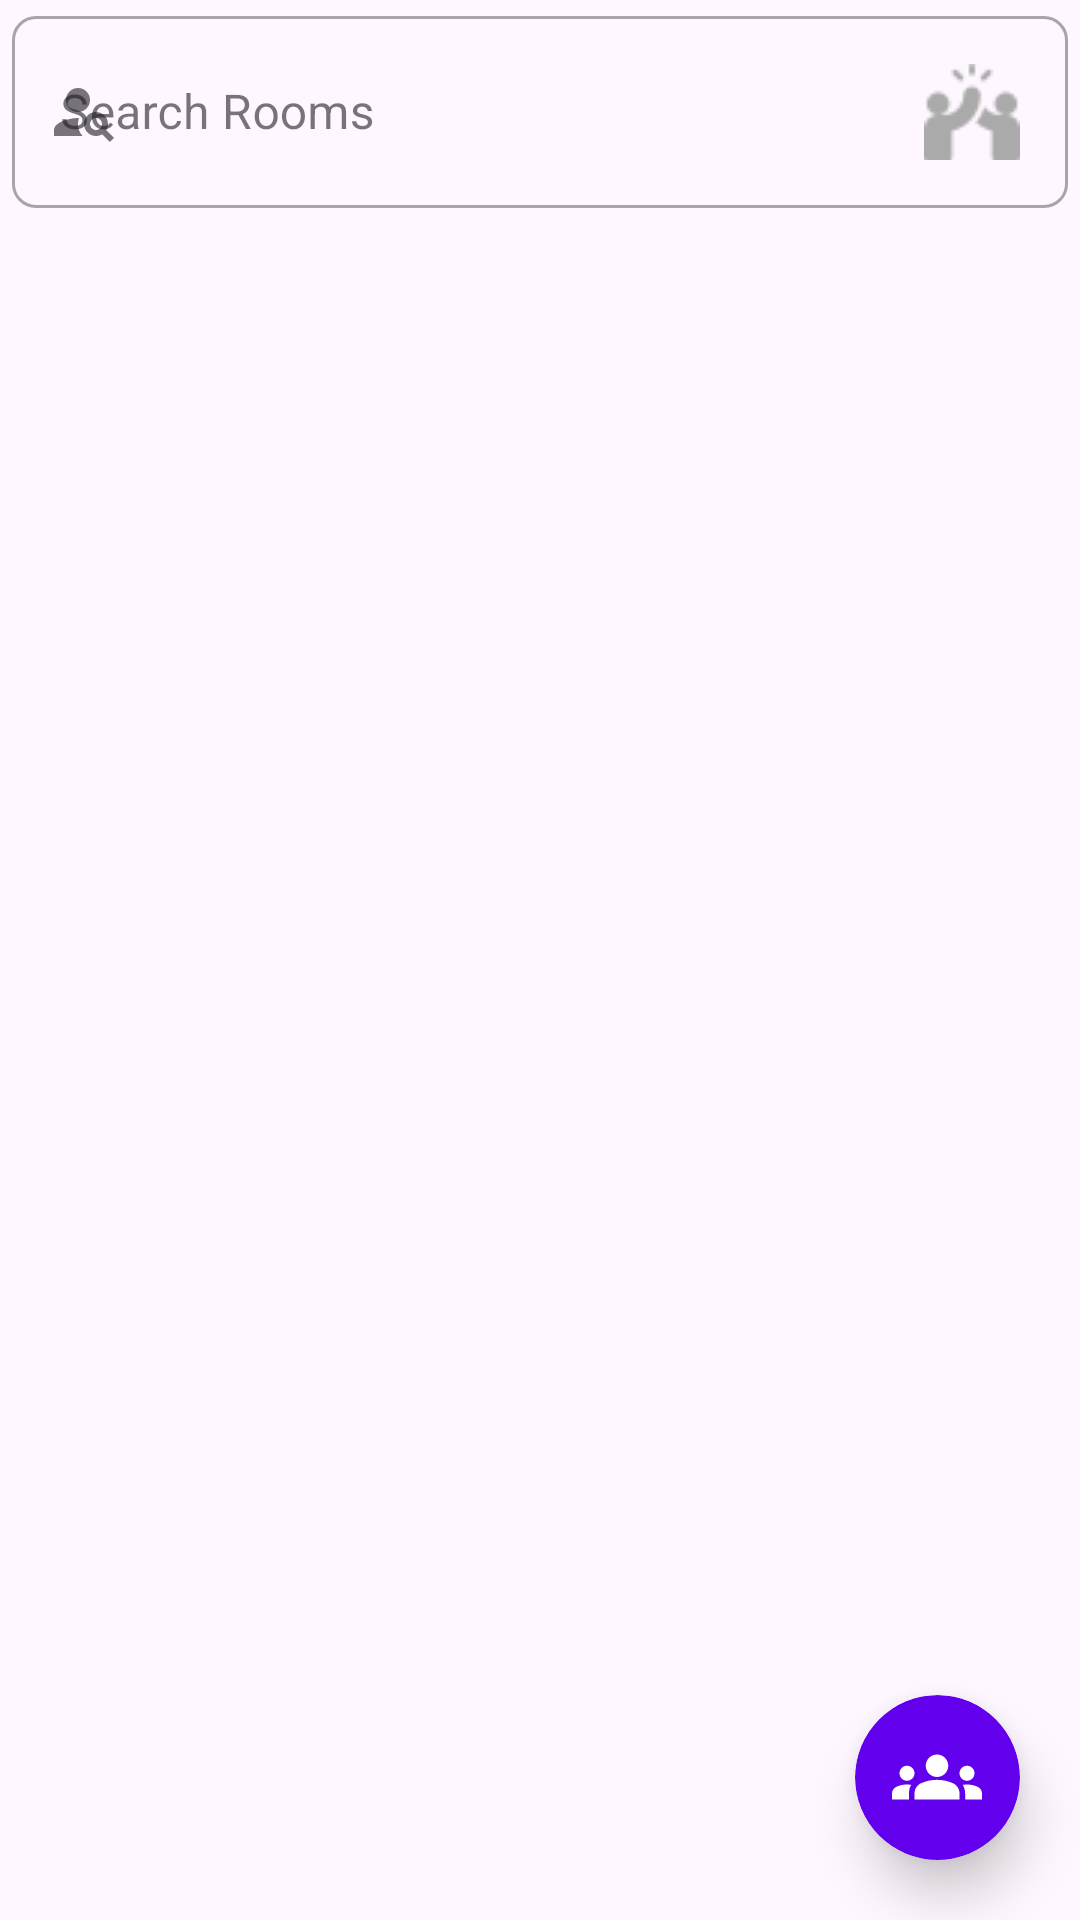

Where to tap for icons on this 1080 × 1920 app screen, as [x,y]:
groups: [937,1777]
